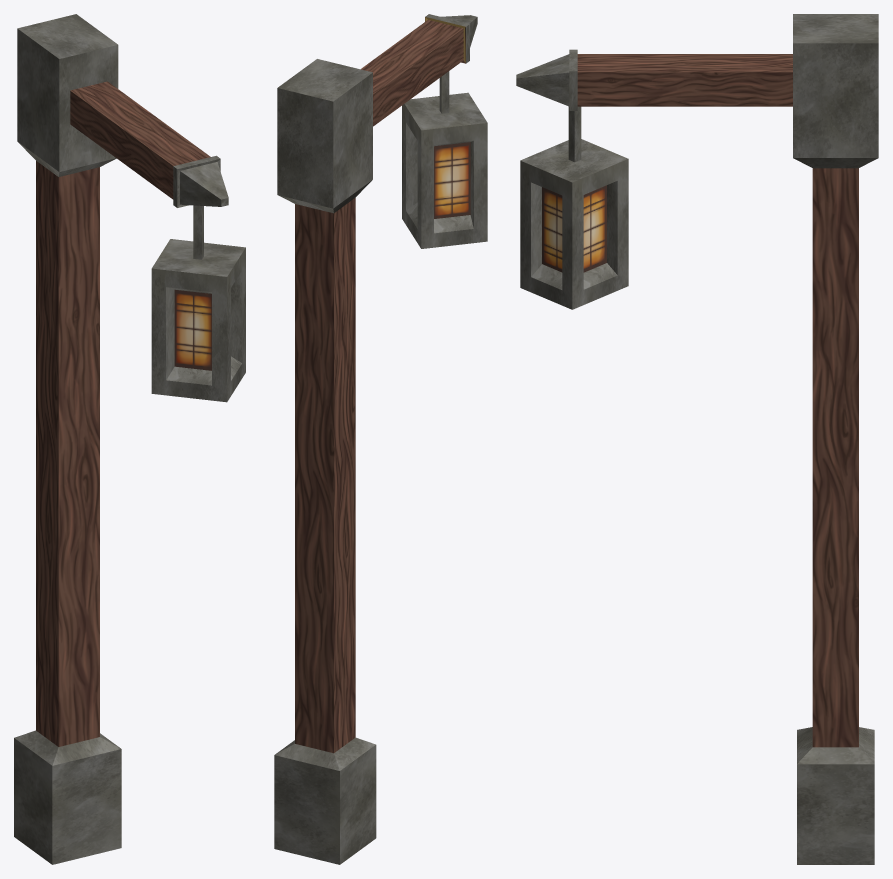
The model's file is Laterne_Holz.fbx.
3 views of the same model, side by side, from view 1: azimuth 30°, elevation 25°; view 2: azimuth 150°, elevation 25°; view 3: azimuth 270°, elevation 25° (orthographic). The views are drawn at different scales.
Visible parts, largest first — view 1: Cube.002; view 2: Cube.002; view 3: Cube.002.
Boxes of the visible parts, <box> form: Cube.002: <box>14,14,245,864</box>; Cube.002: <box>274,14,487,864</box>; Cube.002: <box>516,14,878,864</box>.
Bounding box in the file's own units: 27.9 × 233 × 93.27.
